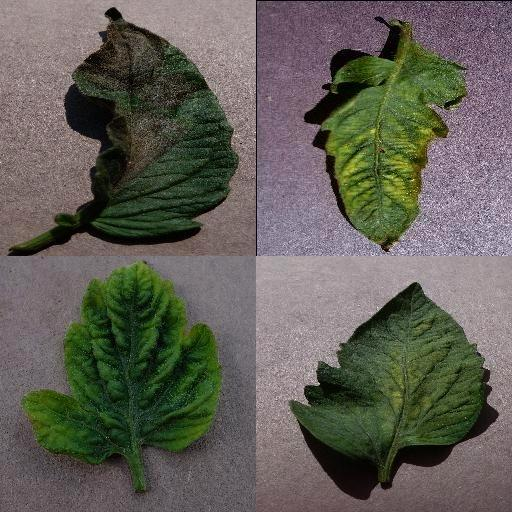Late Blight: (70, 6, 240, 238)
Mosaic Virus: (318, 40, 470, 252)
Spider Mites: (291, 280, 486, 460)
Yellow Leaf Curl Virus: (21, 260, 221, 464)
